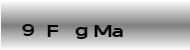9: (21, 23, 35, 36)
F: (46, 24, 60, 38)
M: (93, 24, 111, 38)
a: (112, 27, 123, 38)
g: (74, 26, 88, 40)
